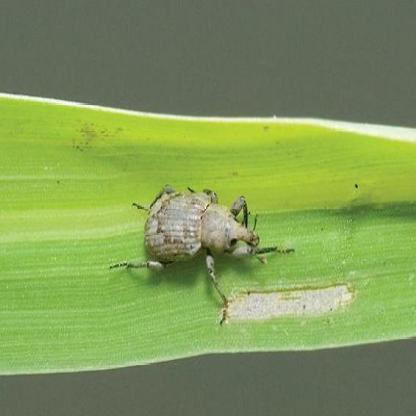rice-bug: (115, 183, 272, 302)
